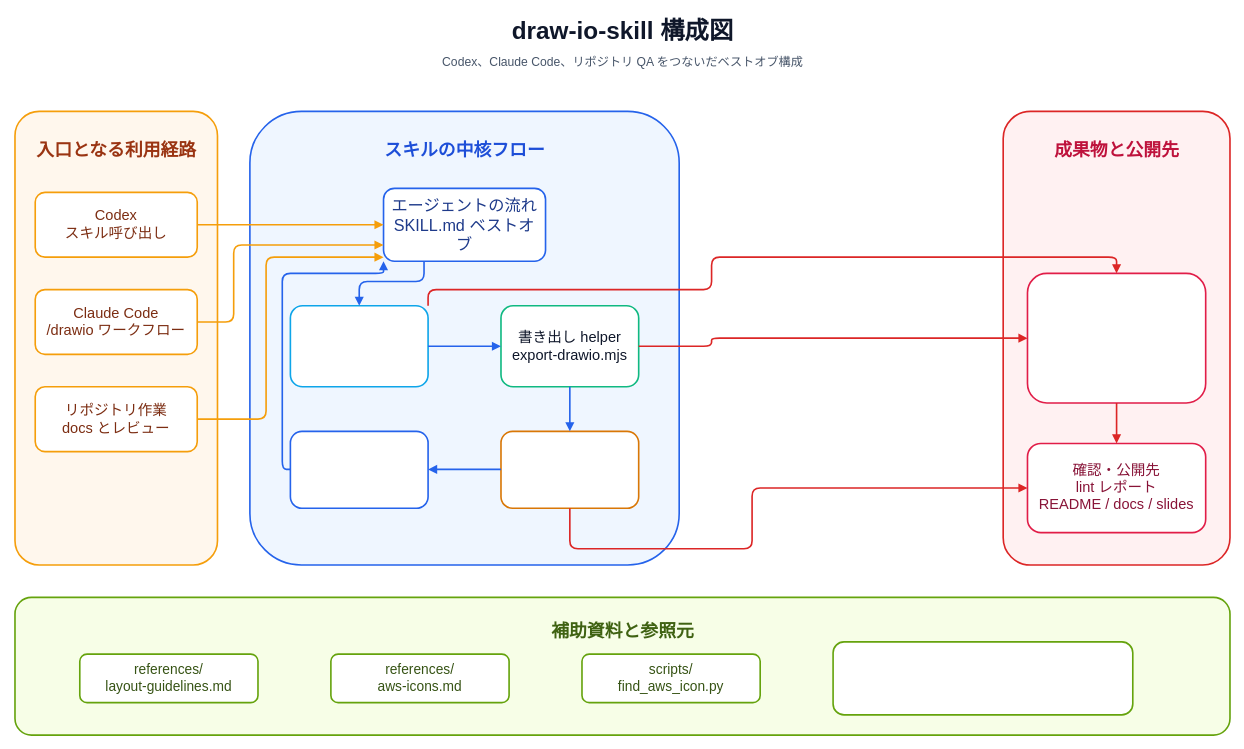
The diagram is 1244 pixels wide and 749 high, and some of its shapes have lost their labels. Each missing label, with the centre of its shape:
Native .drawio 作成・修正: [358,346]
リポジトリ成果物 *.drawio *.drawio.png / .svg / .pdf: [1116,337]
上流の着想 softaworks + jgraph: [982,678]
図を検証 SVG lint + レビュー: [569,469]
結果をエージェントへ返却 修正して再試行: [358,469]
